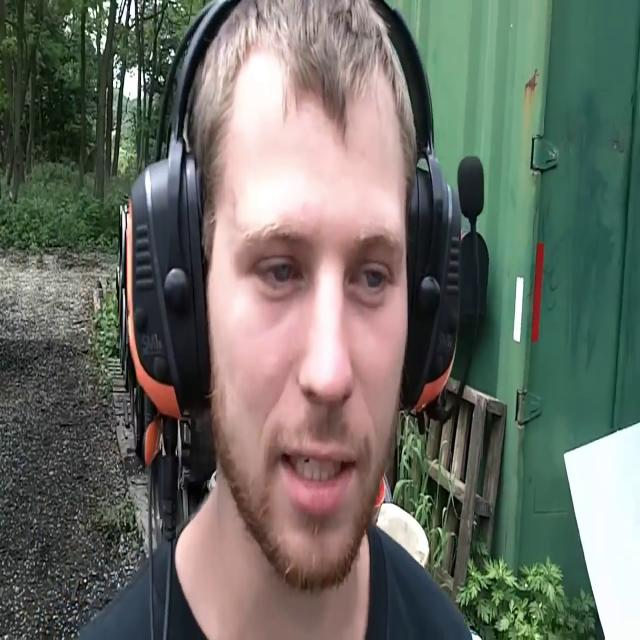earmuff: (139, 192, 185, 342), (418, 204, 450, 319)
